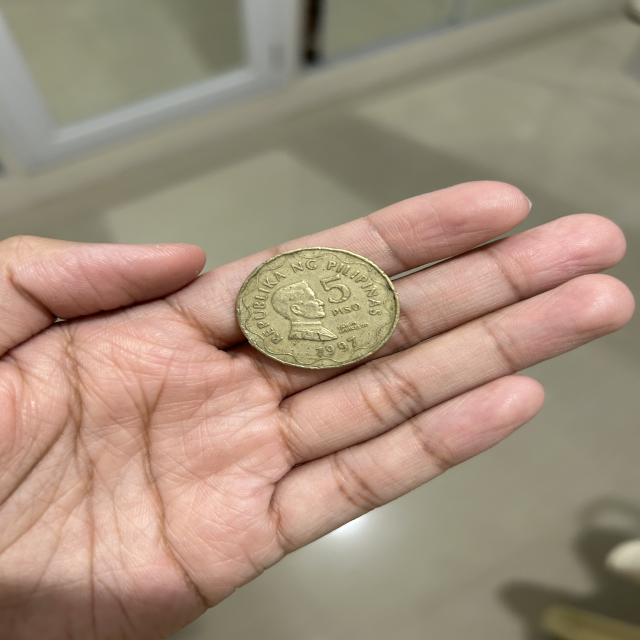5_Old_Front: (309, 267, 371, 324)
